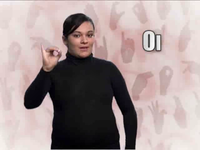oi: (40, 42, 64, 72)
